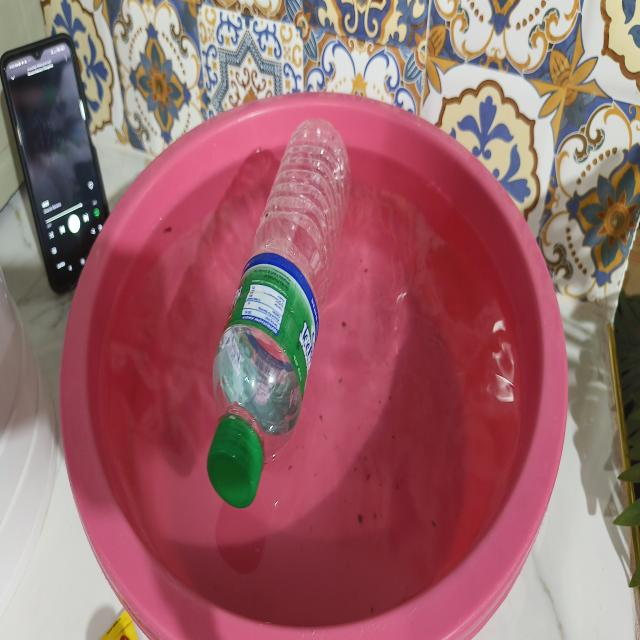Plastic Bottle: (180, 94, 366, 534)
